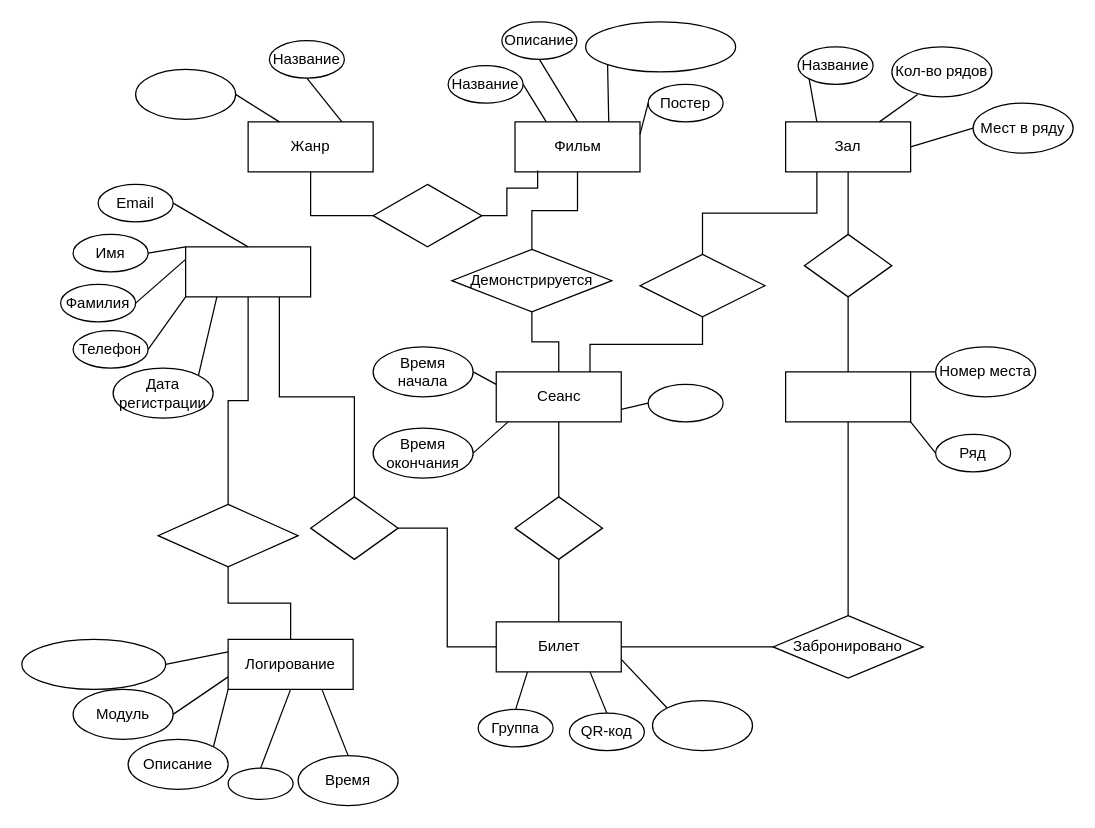
Image size: 1095x828. Some labels were removed from this diagram. The shapes that lost their labels are listed below. From the top down, each one's box as (x1, y1, x2, y2) in pixels, then its label:
(584, 21, 736, 72): Продолжительность
(134, 68, 236, 119): Дата создания
(372, 183, 482, 247): Имеет жанр
(184, 246, 311, 297): Пользователь
(639, 253, 765, 317): Используется
(803, 233, 892, 297): Содержит
(647, 383, 723, 422): Цена
(784, 371, 911, 422): Место
(157, 503, 298, 567): Записывается
(309, 496, 398, 559): Покупает
(514, 496, 602, 559): Продается
(21, 638, 166, 689): Тип взаимодействия
(651, 699, 752, 751): Дата покупки
(227, 767, 293, 799): ip
